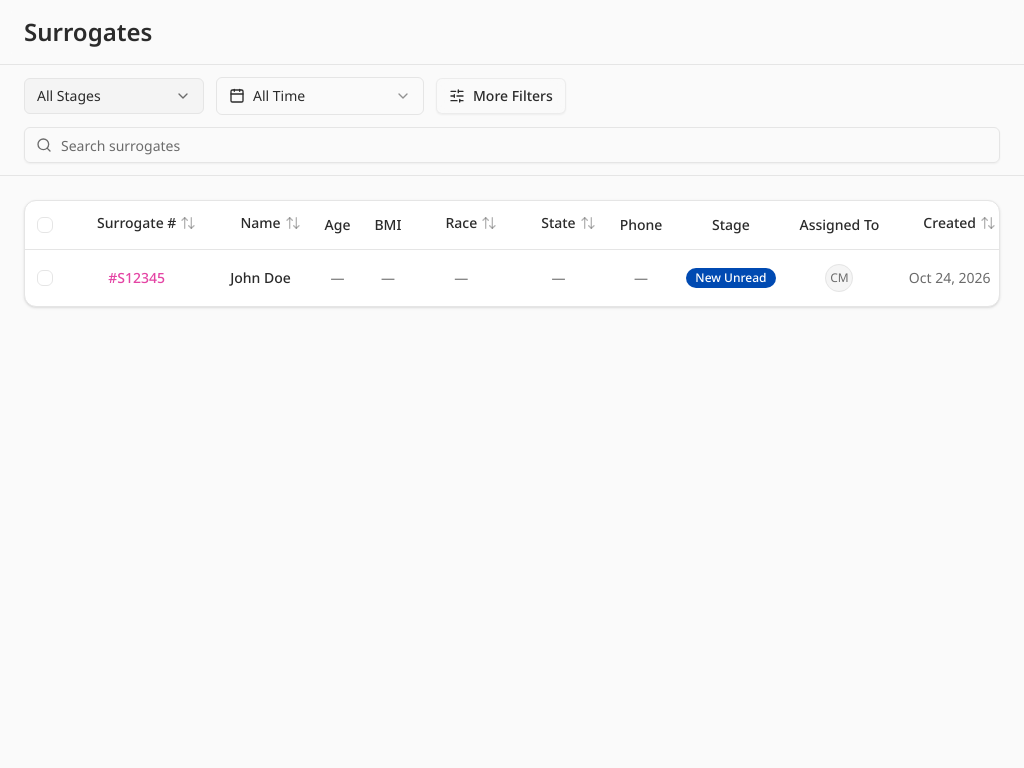
Test: SurrogatesPage Accessibility › omits the queue filter when no queues are available
Click the button "More Filters" at (501, 96), box top-left (436, 78), bottom-right (566, 114)
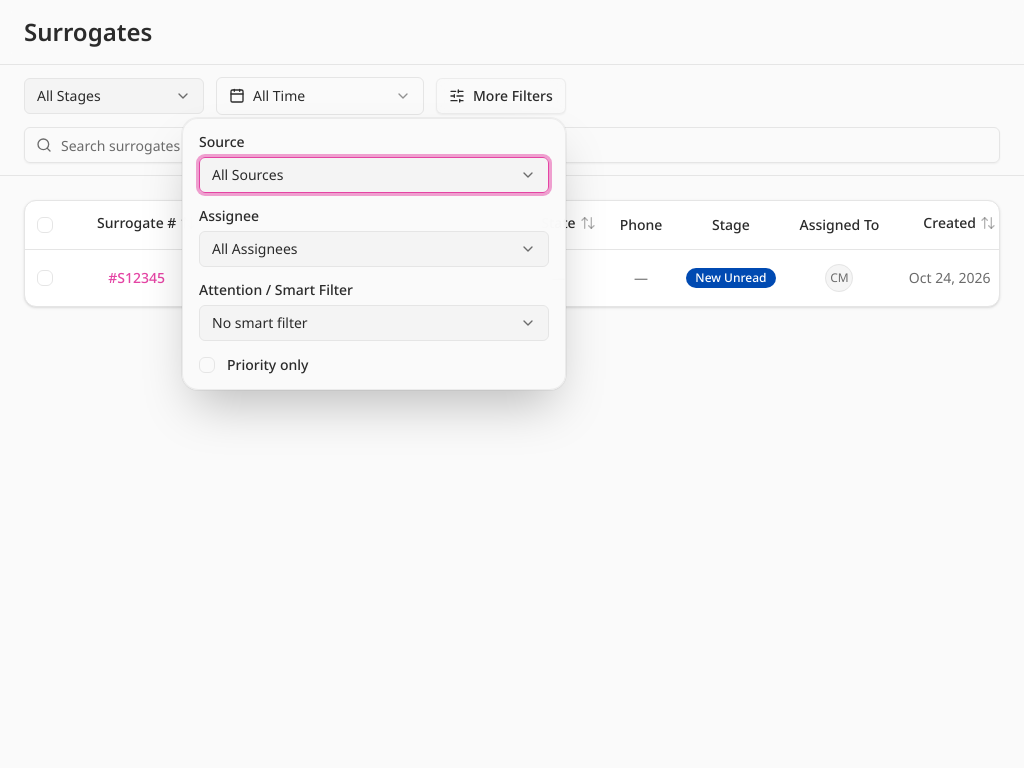
Check: the dropdown named "Filter by source" is shown, box top-left (199, 157), bottom-right (549, 193)
